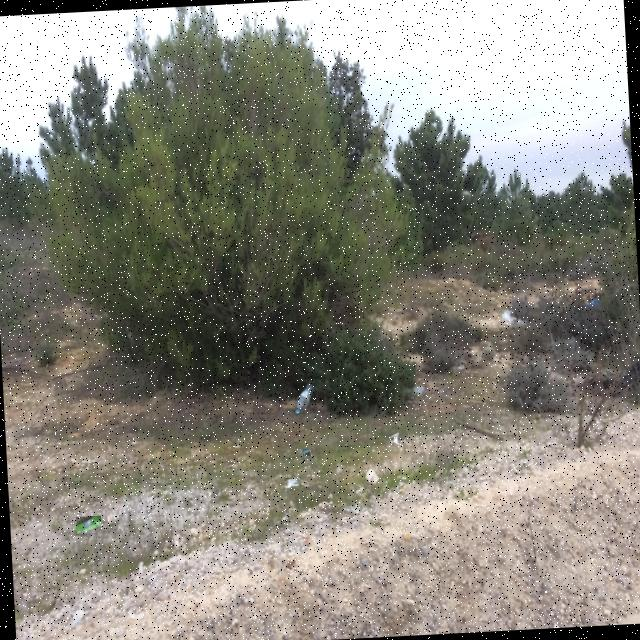Clear plastic bottle: (296, 383, 316, 414)
Drink carton: (77, 516, 101, 534)
Plastic bottle cap: (297, 409, 300, 413)
Unlabeled litter: (285, 477, 301, 489), (303, 449, 310, 456)
